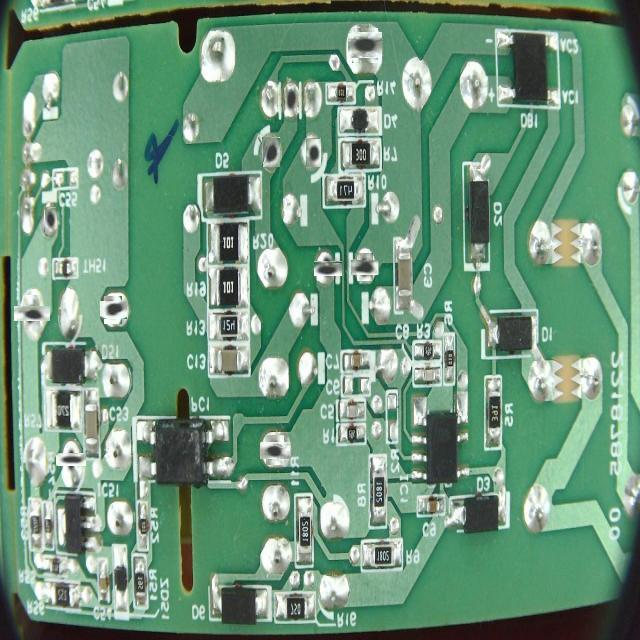damged: (350, 30, 380, 61), (19, 300, 45, 326), (101, 298, 125, 322), (263, 438, 287, 462), (262, 137, 280, 167), (284, 85, 300, 117), (60, 448, 82, 471), (317, 257, 339, 279), (354, 256, 376, 278), (305, 138, 321, 167), (44, 207, 56, 232)
